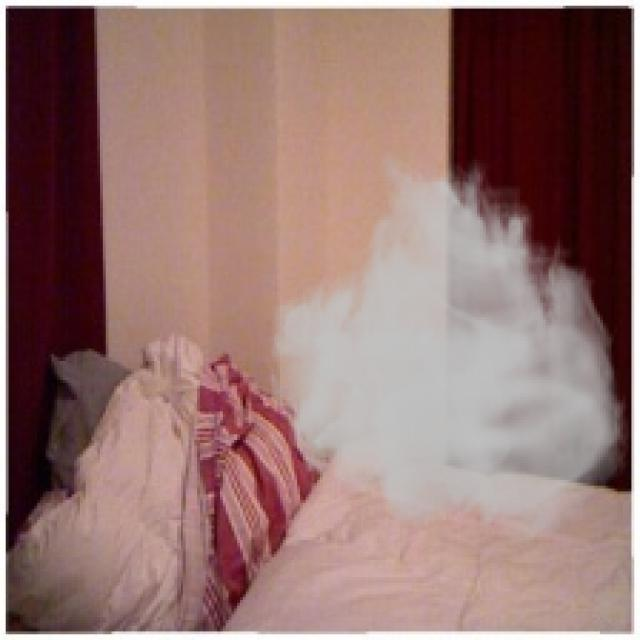Smoke: (266, 148, 632, 546)
